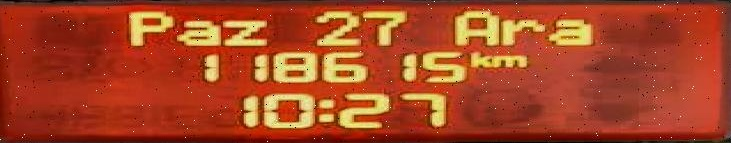0: (262, 90, 315, 130)
1: (190, 48, 225, 84), (230, 92, 262, 129), (397, 50, 420, 85), (248, 48, 268, 85)
2: (310, 7, 365, 46), (338, 89, 388, 127)
5: (420, 47, 464, 83)
6: (321, 48, 370, 84)
7: (359, 7, 414, 46), (397, 89, 450, 126)
8: (269, 48, 319, 85)
X: (450, 8, 501, 45), (126, 9, 168, 47), (220, 17, 271, 45), (549, 16, 597, 45), (501, 16, 544, 45), (177, 18, 220, 45), (314, 95, 333, 126), (489, 54, 526, 67), (466, 49, 492, 67)
